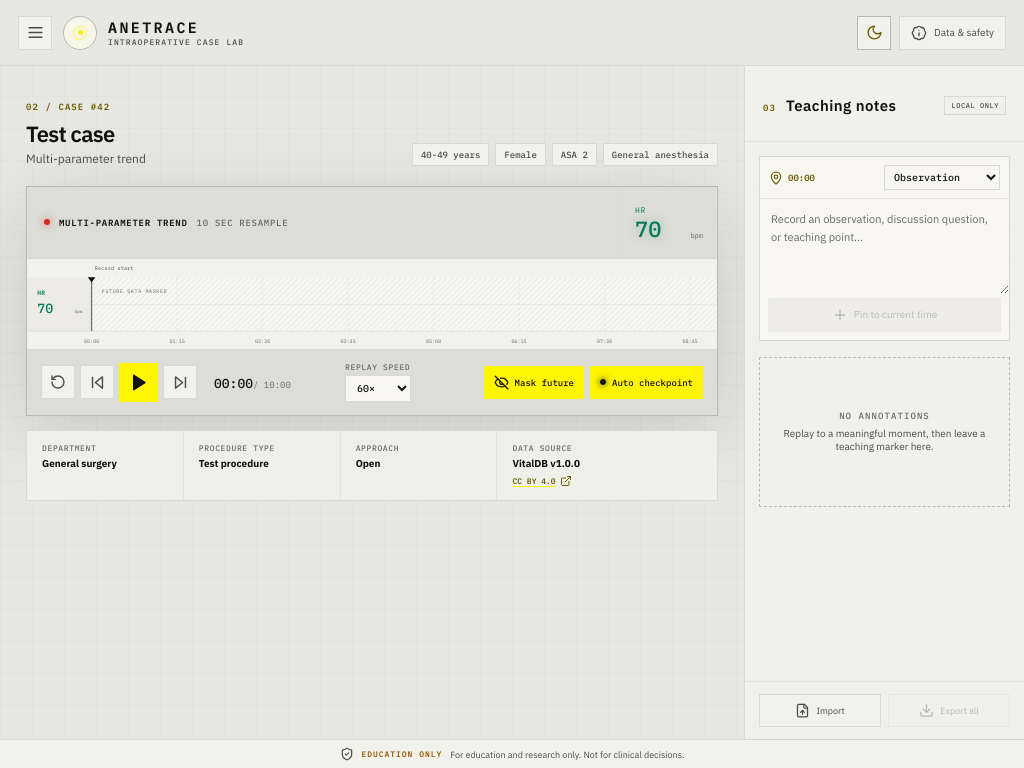
application shell › opens the data and safety explanation
Click the button "Data & safety": [952, 32] box left=899, top=16, right=1006, bottom=50
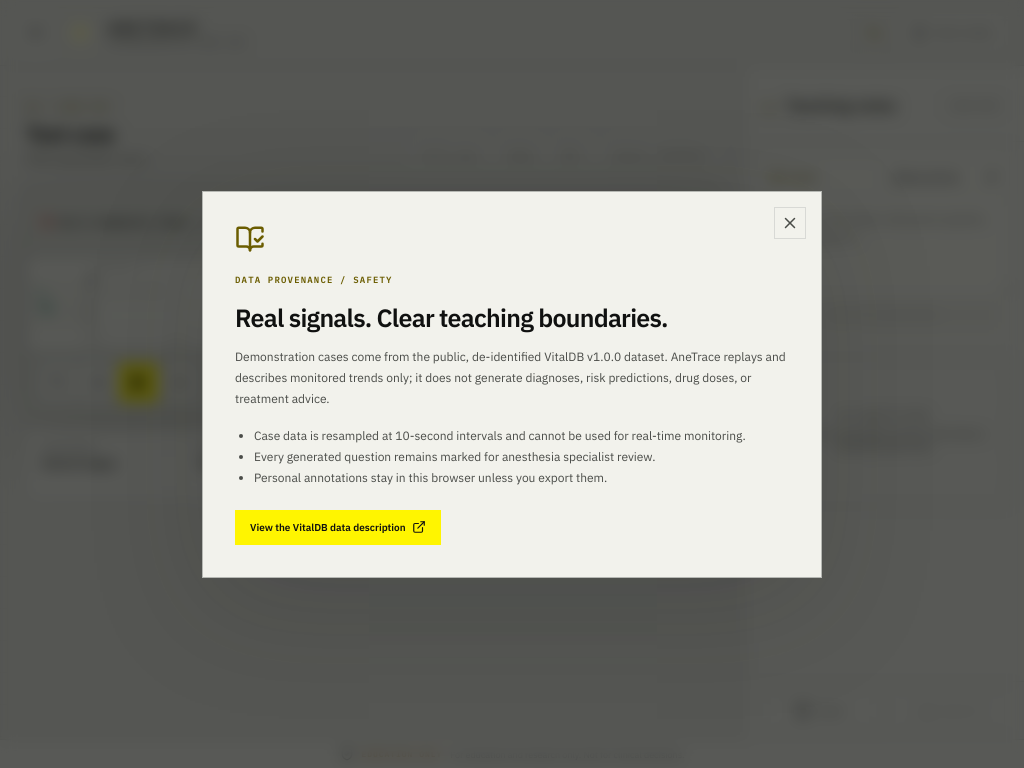
Result: the dialog "Real signals. Clear teaching boundaries." is shown at left=202, top=190, right=822, bottom=578
Result: the text "does not generate diagnoses" is shown at left=235, top=348, right=786, bottom=406
